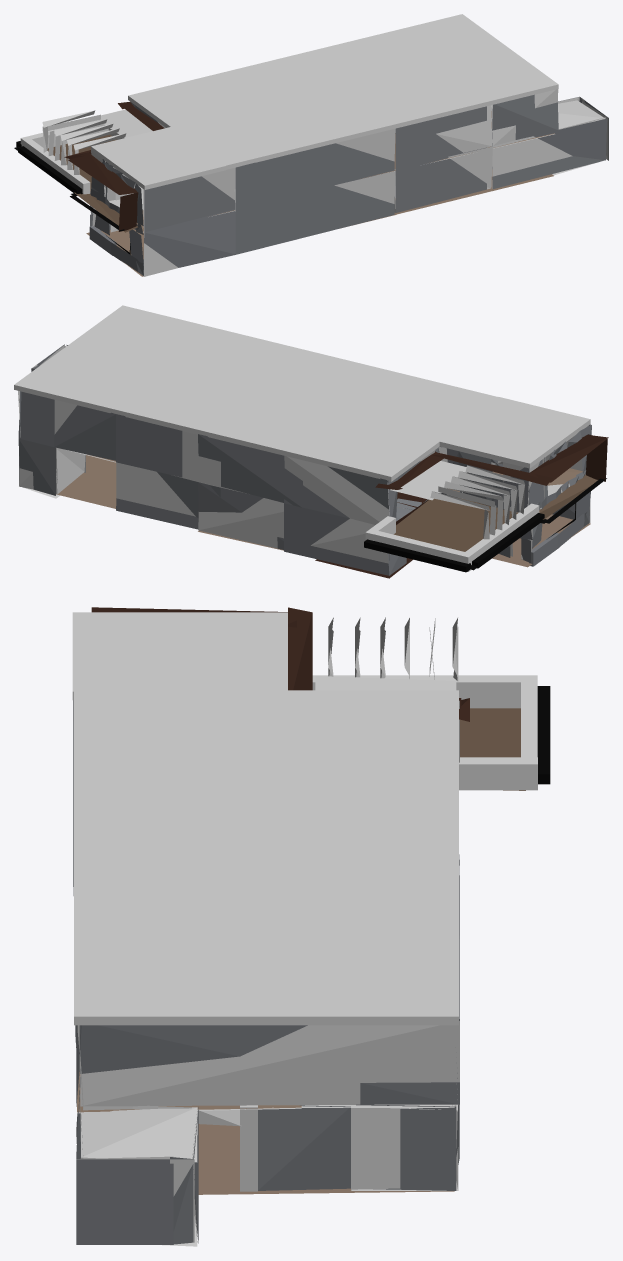
File: modern-house.lod2.glb
The picture shows the model from 3 angles, top to bottom: view 1: azimuth 30°, elevation 25°; view 2: azimuth 150°, elevation 25°; view 3: azimuth 270°, elevation 25°; orthographic projection. The views are drawn at different scales.
Parts seen in each view (by area): view 1: Object_2; view 2: Object_2; view 3: Object_2.
Boxes of the visible parts, x1,y1,x2,y2 form: Object_2: (14,14,608,276); Object_2: (14,305,608,578); Object_2: (72,607,550,1246).
Bounding box in the file's own units: 35.73 × 6.46 × 15.19.
